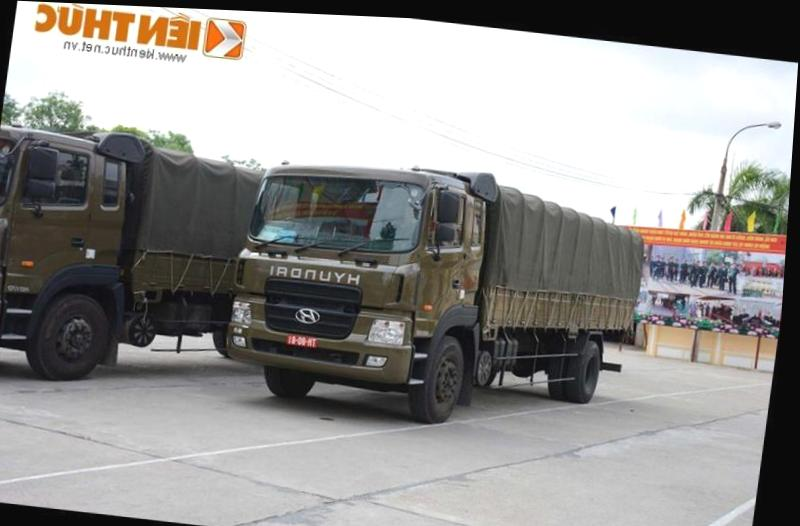License_Plate: (285, 331, 319, 351)
